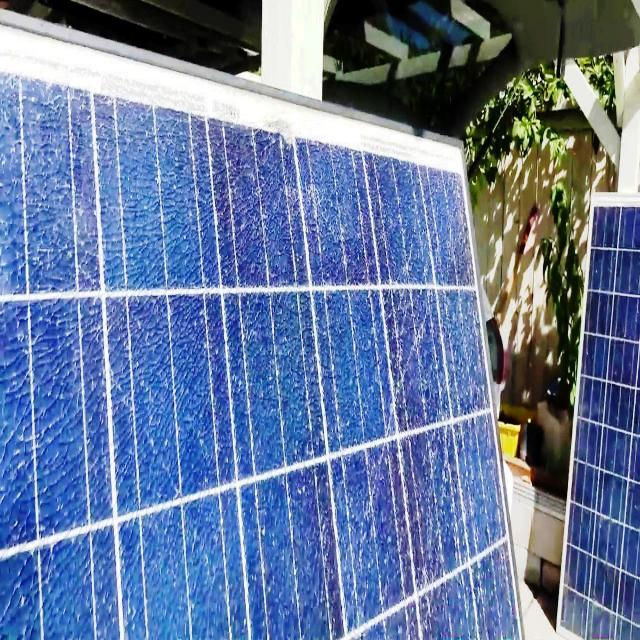faulty: (1, 38, 525, 640), (557, 194, 640, 640)
